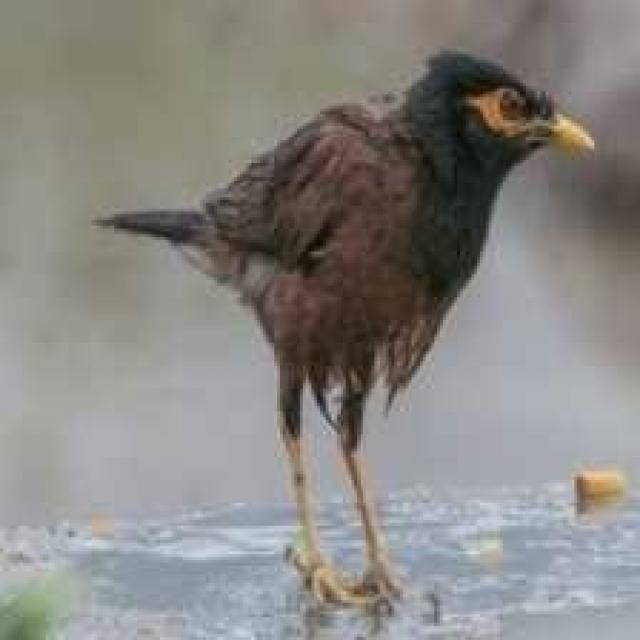bird: (90, 41, 608, 608)
